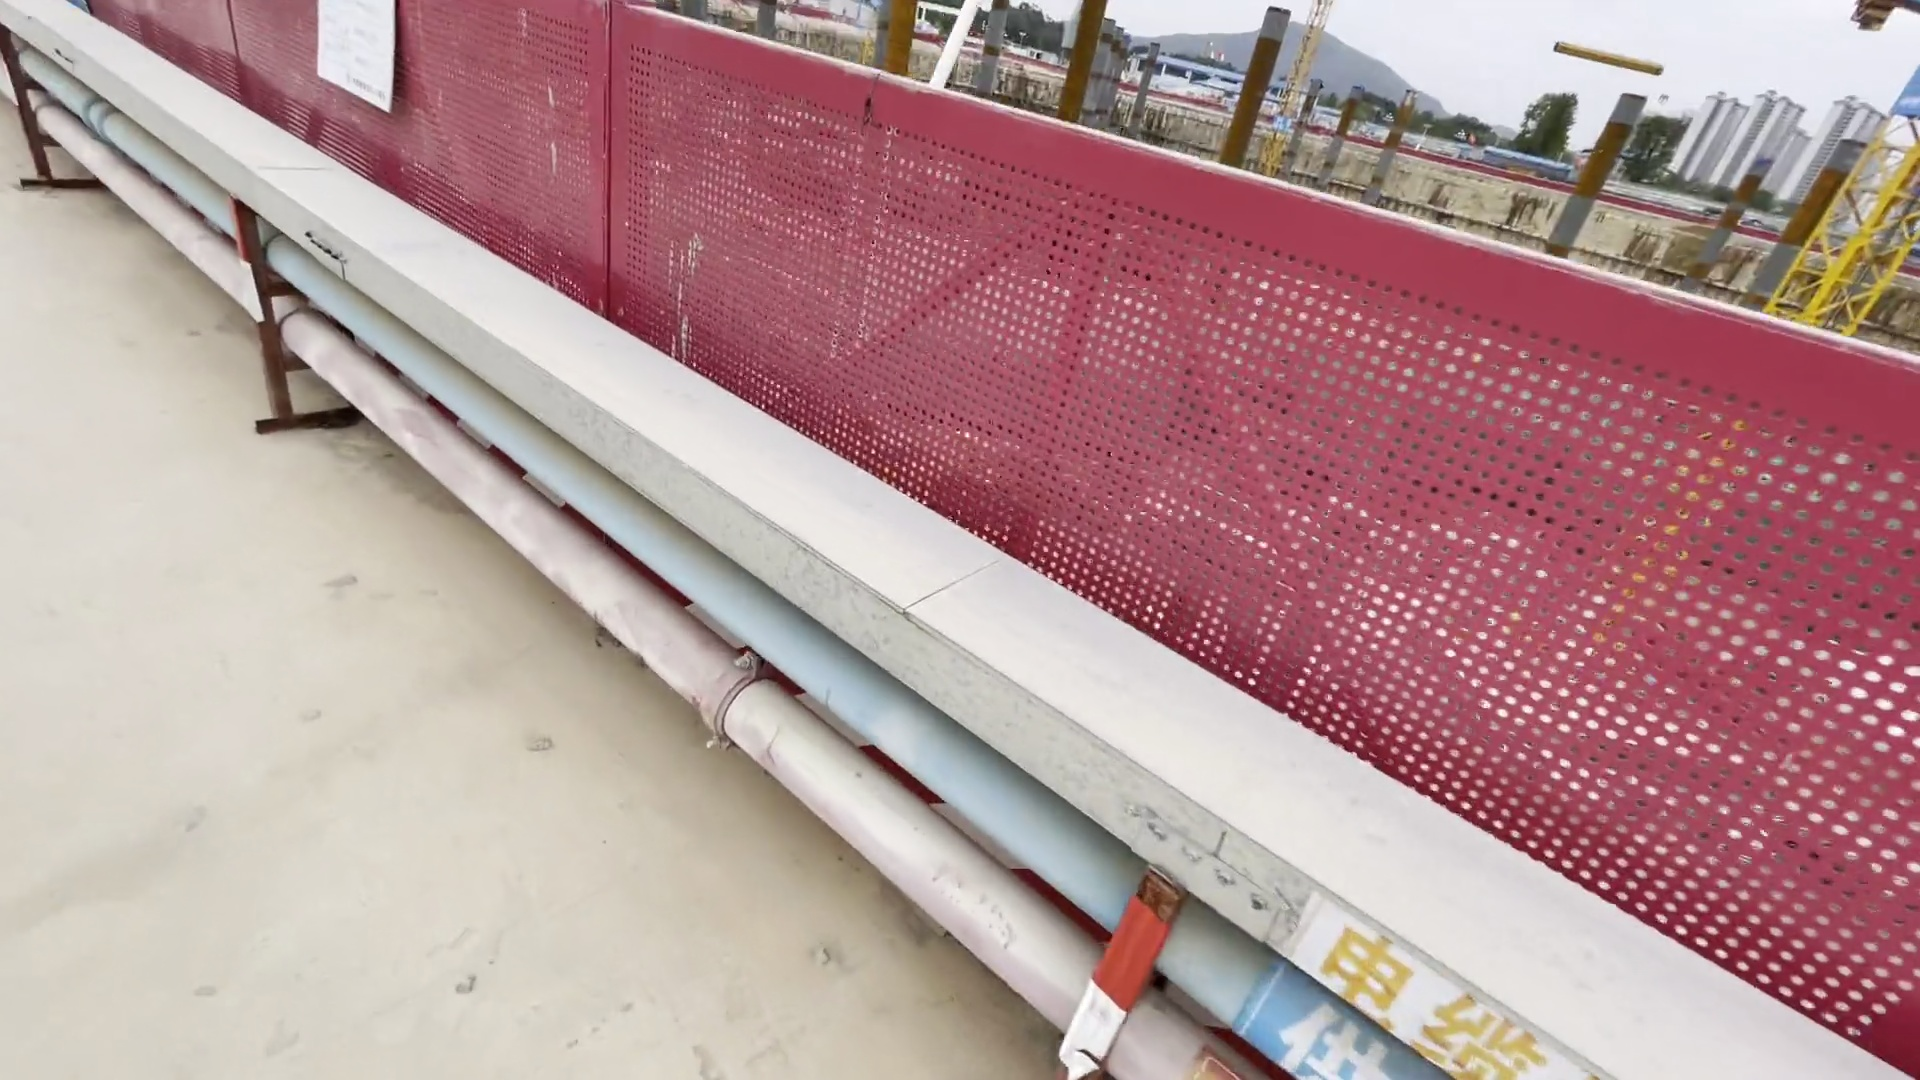fence: (313, 1, 1875, 998)
